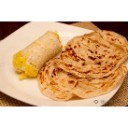parota: (39, 31, 128, 97)
